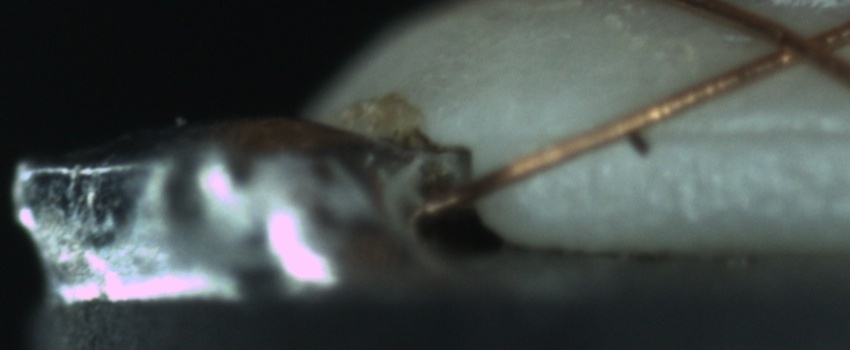CL: (750, 11, 842, 77)
DL: (550, 105, 848, 168)
